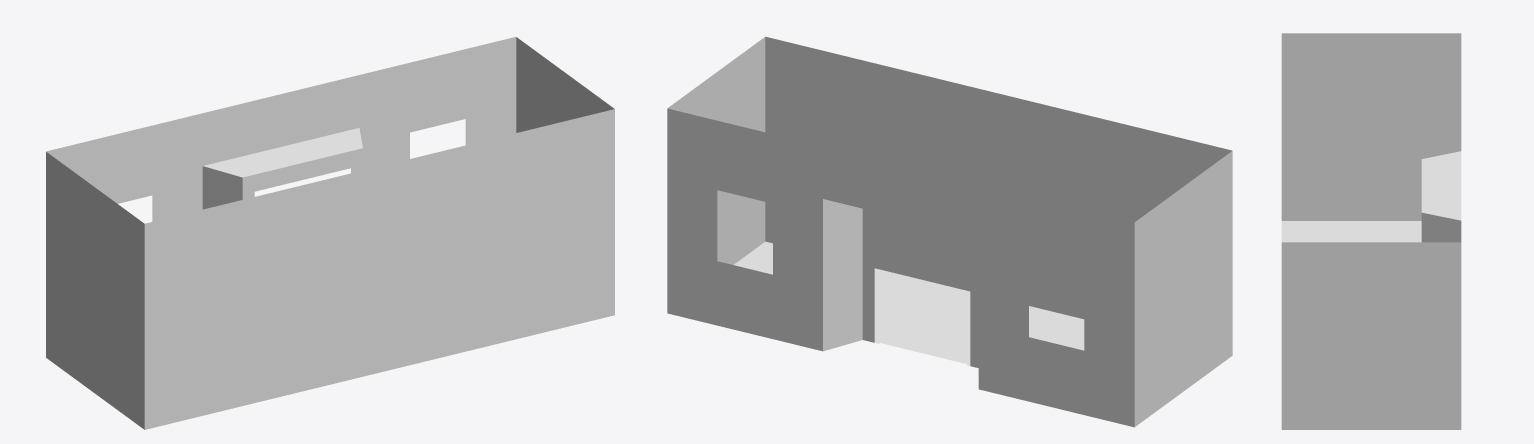
Rendered from Bld_C_low_L3_B.fbx.
The picture shows the model from 3 angles, left to right: view 1: azimuth 30°, elevation 25°; view 2: azimuth 150°, elevation 25°; view 3: azimuth 270°, elevation 25°; orthographic projection. The views are drawn at different scales.
Visible parts, largest first — view 1: Bld_C_low_L3_B_LOD0; view 2: Bld_C_low_L3_B_LOD0; view 3: Bld_C_low_L3_B_LOD0.
Part boxes in pixels (x1,y1,x2,y2): Bld_C_low_L3_B_LOD0: [46, 37, 614, 429]; Bld_C_low_L3_B_LOD0: [667, 36, 1232, 427]; Bld_C_low_L3_B_LOD0: [1281, 33, 1461, 429].
Size of what is drawn, in the model's own units: 1300 by 651 by 627.
1 material, 1 textured.
